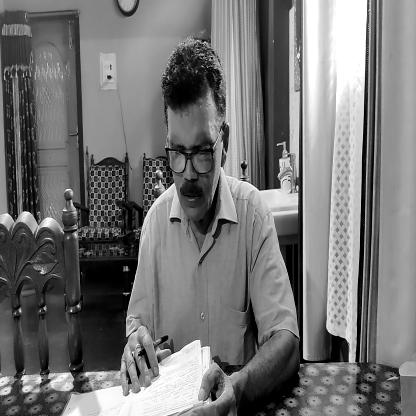Normal: (161, 39, 225, 223)
